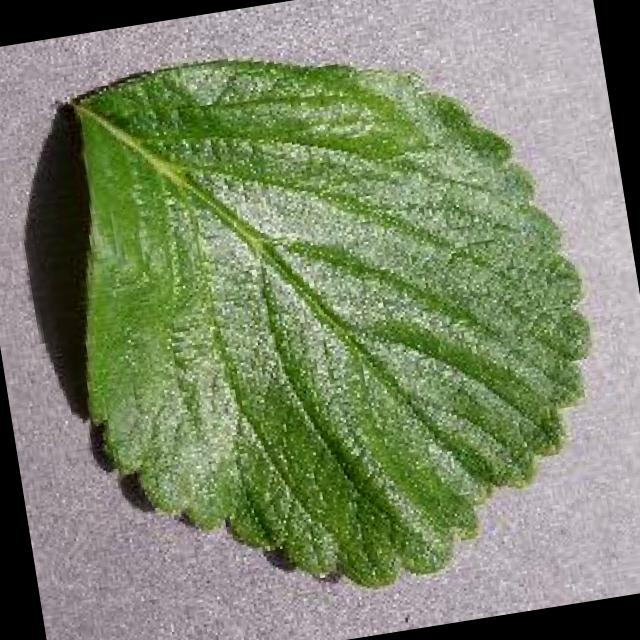healthy: (78, 65, 587, 588)
